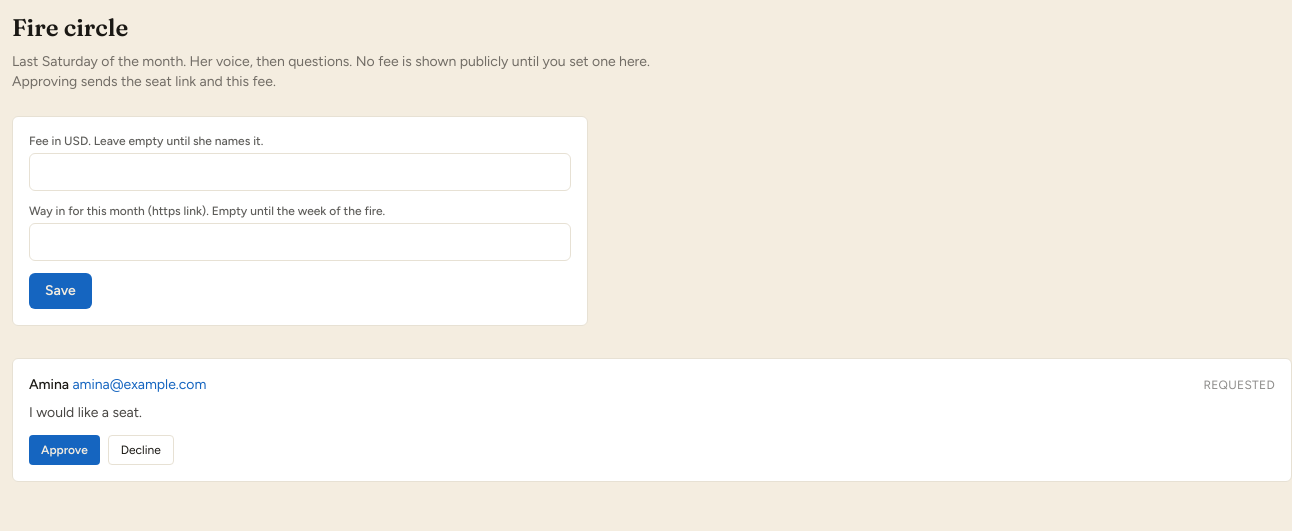
Test: FireCircleAdmin save › confirms a successful save
This screenshot has width=1292, height=531.
Click the button "Save": {"x": 60, "y": 291} [29,273,92,309]
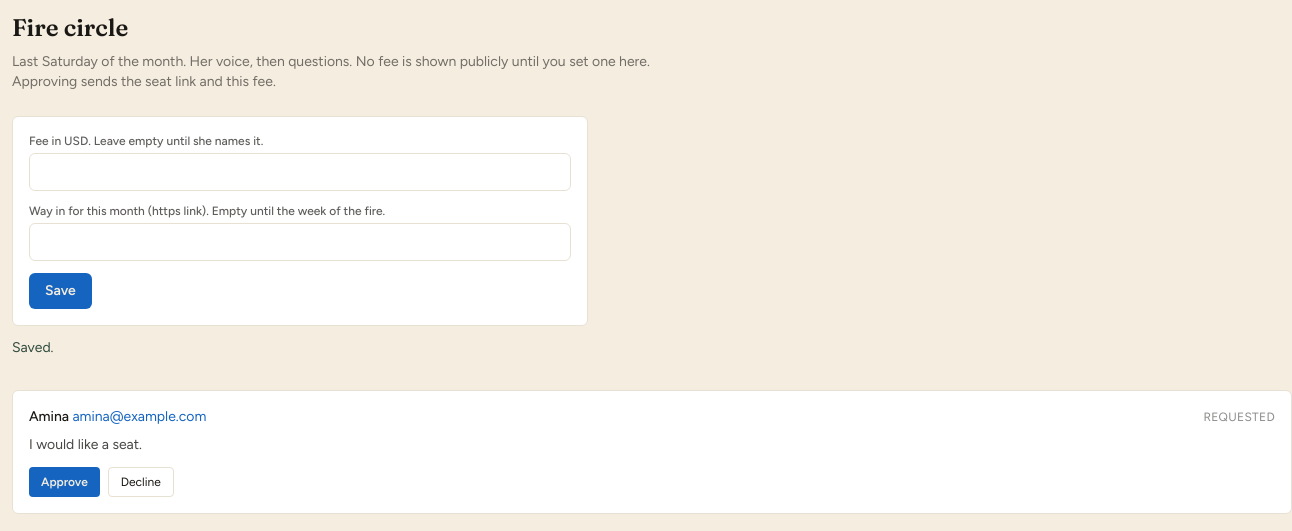
Now the message reads "Saved.", box [12,339,54,356]
